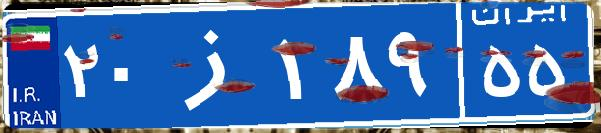0: (110, 28, 158, 105)
1: (273, 28, 330, 110)
2: (57, 26, 110, 107)
5: (475, 38, 525, 113), (525, 38, 570, 115)
8: (330, 28, 385, 110)
9: (385, 28, 445, 110)
ز: (158, 15, 273, 115)
